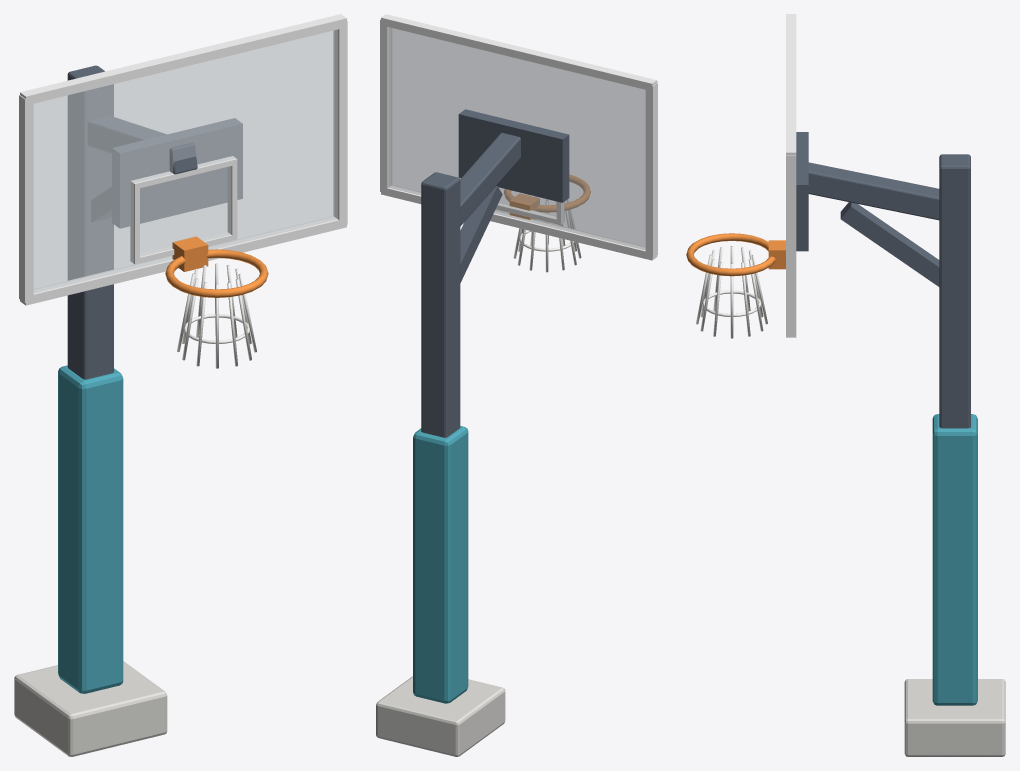
The model's file is prop_basketball_hoop.glb.
3 renders of one model, left to right at view 1: azimuth 30°, elevation 25°; view 2: azimuth 150°, elevation 25°; view 3: azimuth 270°, elevation 25°, orthographic. The views are drawn at different scales.
Visible parts, largest first — view 1: BasePlinth; view 2: BasePlinth; view 3: BasePlinth.
Part boxes in pixels (x1,y1,x2,y2): BasePlinth: [14, 14, 347, 756]; BasePlinth: [376, 14, 657, 756]; BasePlinth: [686, 14, 1005, 756].
Bounding box in the file's own units: 1.89 × 4.14 × 1.83.
